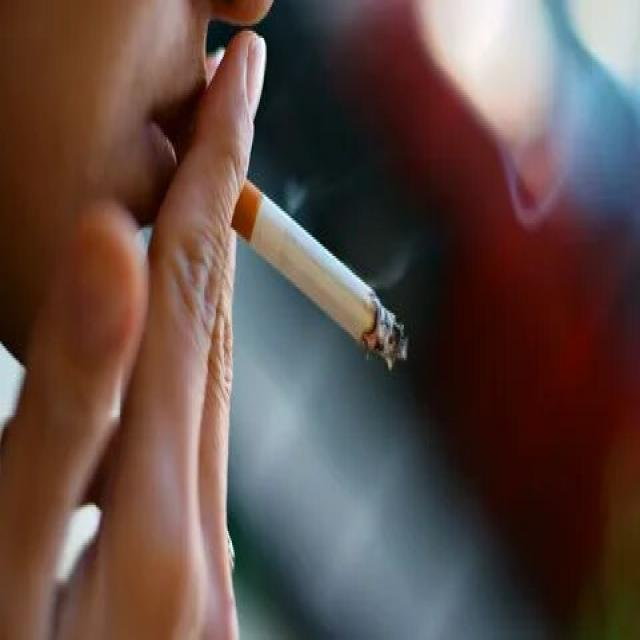cigarette: (228, 159, 419, 374)
